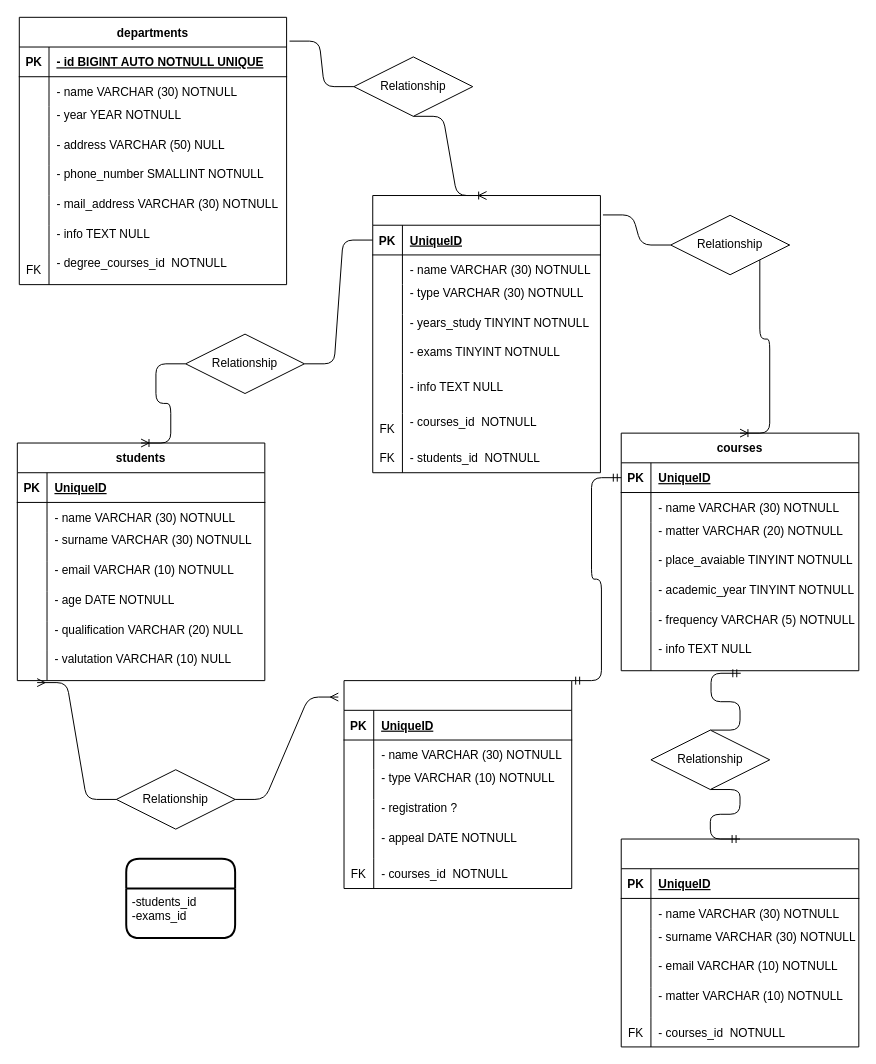
The diagram is 876 pixels wide and 1064 high, and some of its shapes have lost their labels. Here are the shapes that lost their labels. From the top down, the box of each, then its label:
(372, 195, 600, 473): degree_courses
(343, 680, 572, 889): exams
(125, 857, 236, 939): student_exam
(620, 838, 859, 1047): theachers
